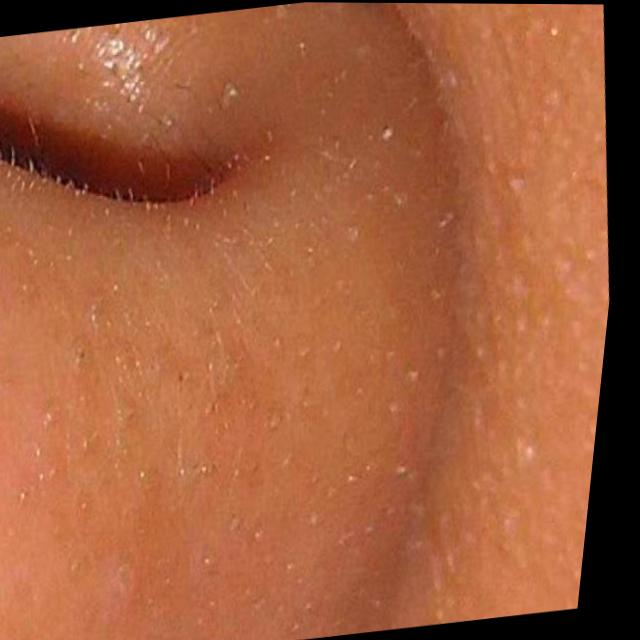whitehead: (169, 29, 560, 640)
